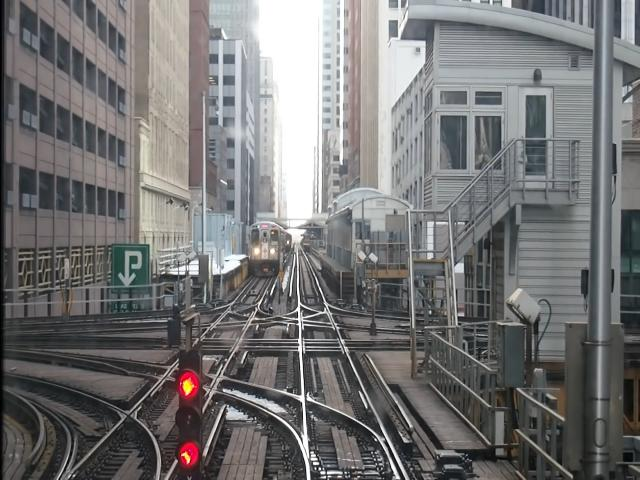signal light: (175, 344, 209, 480)
